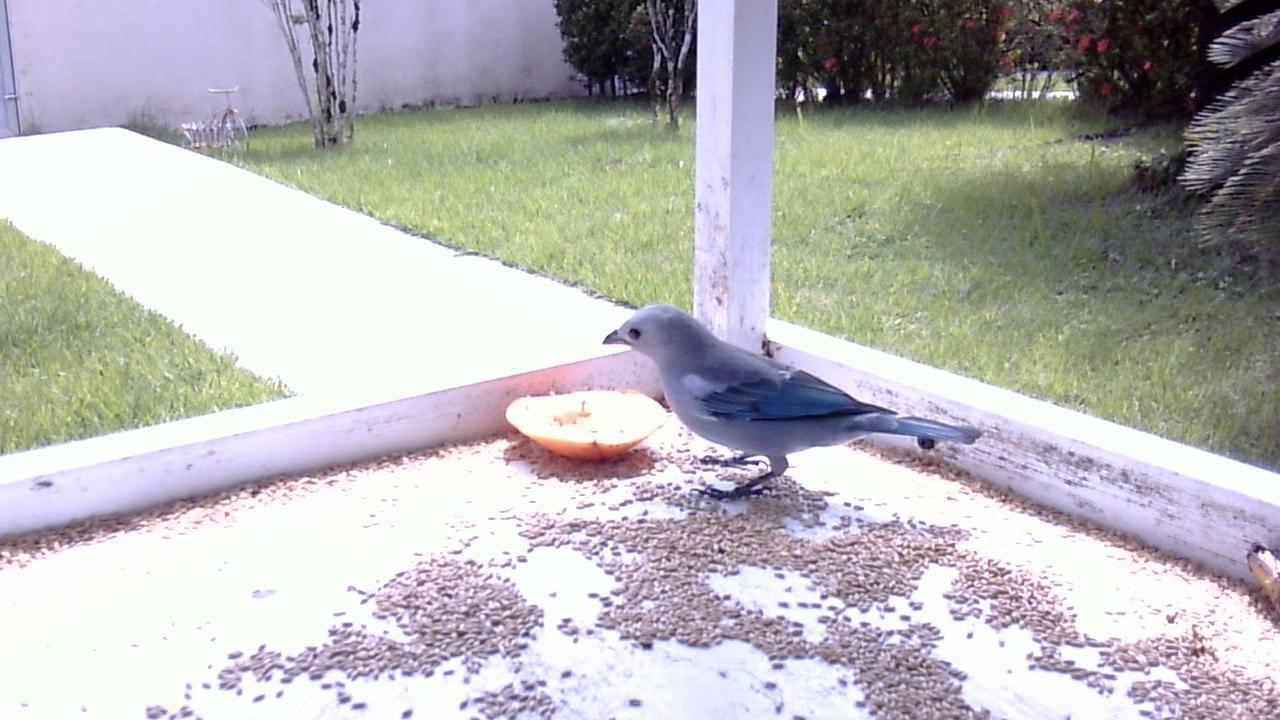sanhaco_da_amazonia: (602, 305, 985, 505)
